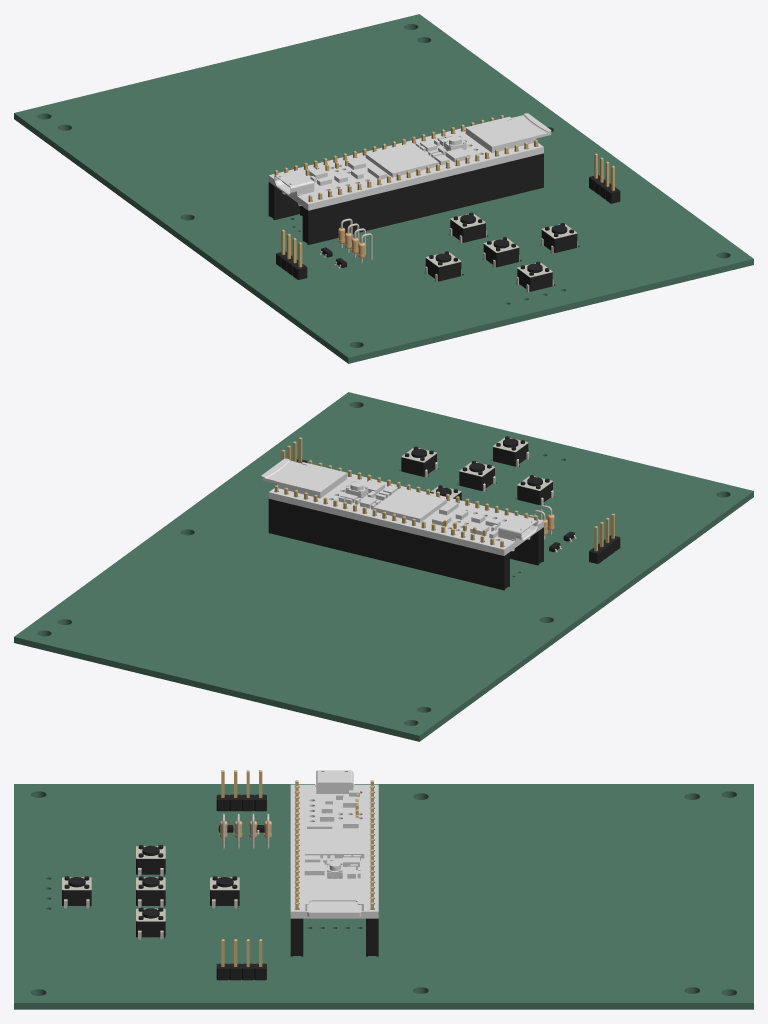
The model's file is raquette.glb.
The picture shows the model from 3 angles, top to bottom: view 1: azimuth 30°, elevation 25°; view 2: azimuth 150°, elevation 25°; view 3: azimuth 270°, elevation 25°; orthographic projection. The views are drawn at different scales.
Visible parts, largest first — view 1: =>[0:1:1:20], =>[0:1:1:19], =>[0:1:1:11] (×2), =>[0:1:1:7] (×5), =>[0:1:1:13] (×2), =>[0:1:1:3] (×2); view 2: =>[0:1:1:20], =>[0:1:1:19], =>[0:1:1:11] (×2), =>[0:1:1:7] (×4), =>[0:1:1:13] (×2), =>[0:1:1:3]; view 3: =>[0:1:1:20], =>[0:1:1:19], =>[0:1:1:7] (×5), =>[0:1:1:3] (×2), =>[0:1:1:13] (×2), =>[0:1:1:11] (×2).
Part boxes in pixels (bbox=[...]): =>[0:1:1:20]: bbox=[14, 14, 753, 363]; =>[0:1:1:19]: bbox=[268, 113, 551, 210]; =>[0:1:1:11] (×2): bbox=[268, 153, 543, 244]; =>[0:1:1:7] (×5): bbox=[425, 212, 577, 292]; =>[0:1:1:13] (×2): bbox=[269, 115, 542, 230]; =>[0:1:1:3] (×2): bbox=[276, 153, 620, 279]; =>[0:1:1:20]: bbox=[14, 392, 753, 741]; =>[0:1:1:19]: bbox=[261, 458, 543, 555]; =>[0:1:1:11] (×2): bbox=[268, 499, 543, 590]; =>[0:1:1:7] (×4): bbox=[400, 436, 553, 505]; =>[0:1:1:13] (×2): bbox=[269, 460, 543, 577]; =>[0:1:1:3]: bbox=[589, 513, 620, 563]; =>[0:1:1:20]: bbox=[14, 784, 753, 1009]; =>[0:1:1:19]: bbox=[290, 770, 378, 918]; =>[0:1:1:7] (×5): bbox=[62, 845, 239, 939]; =>[0:1:1:3] (×2): bbox=[216, 770, 266, 980]; =>[0:1:1:13] (×2): bbox=[292, 780, 377, 943]; =>[0:1:1:11] (×2): bbox=[290, 918, 378, 956].
Bounding box in the file's own units: 0.105 × 0.0163 × 0.15.
